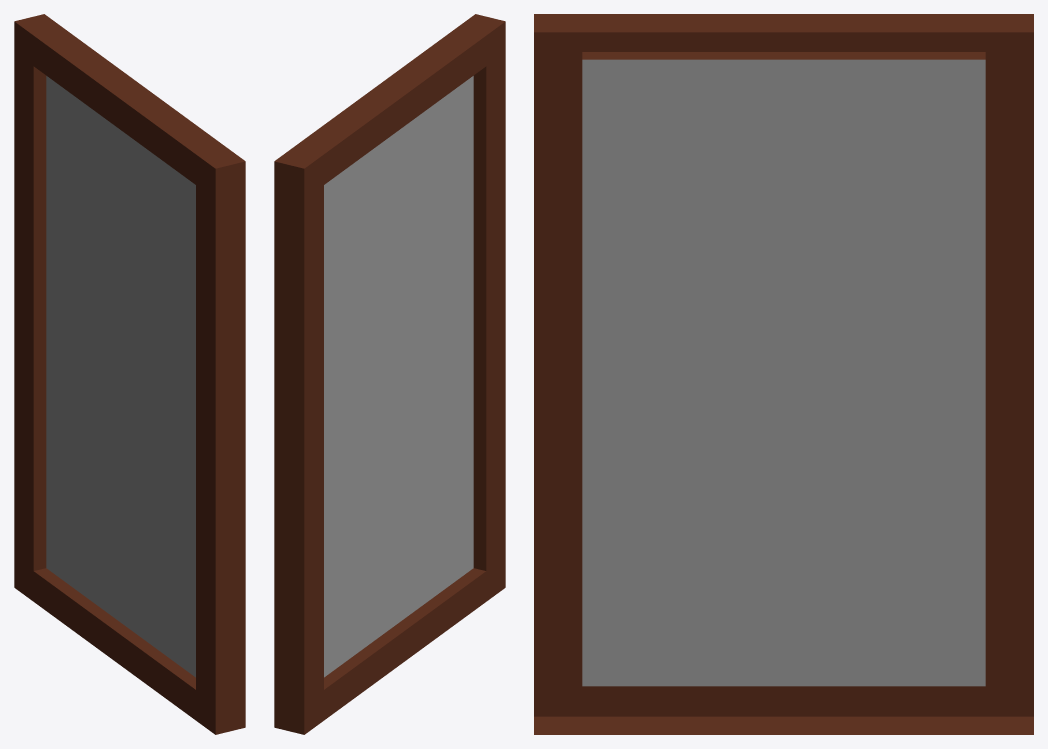
File: SM_Tableau.fbx
3 renders of one model, left to right at view 1: azimuth 30°, elevation 25°; view 2: azimuth 150°, elevation 25°; view 3: azimuth 270°, elevation 25°, orthographic. The views are drawn at different scales.
Visible parts, largest first — view 1: polySurface53, polySurface54; view 2: polySurface53, polySurface54; view 3: polySurface53, polySurface54.
Boxes of the visible parts, x1=… form: polySurface53: x1=46, y1=76, x2=195, y2=677; polySurface54: x1=14, y1=14, x2=245, y2=734; polySurface53: x1=324, y1=76, x2=473, y2=677; polySurface54: x1=274, y1=14, x2=505, y2=734; polySurface53: x1=582, y1=59, x2=985, y2=686; polySurface54: x1=534, y1=14, x2=1033, y2=734.
Size of the model in its own units: 2.32 by 41.52 by 26.76.
